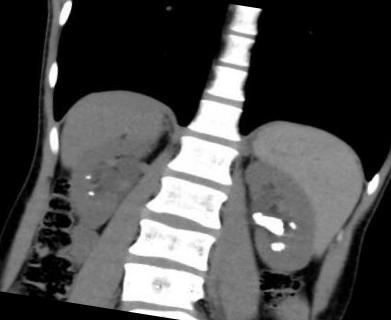Tas_Var: (247, 204, 288, 237), (266, 240, 282, 253), (85, 188, 96, 199), (276, 240, 285, 250), (82, 173, 93, 181), (287, 220, 296, 227), (290, 225, 297, 230)
